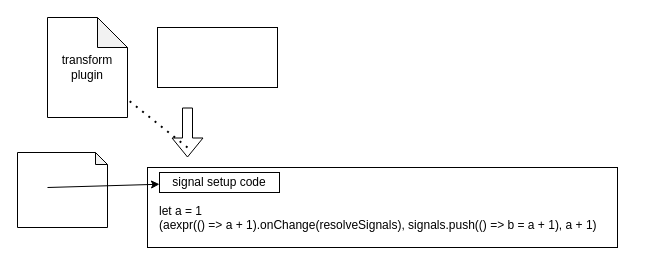
The diagram is 655 pixels wide and 265 high, and some of its shapes have lost their labels. The shapes that lost their labels are listed below. From the top down, each one's centre as x and y in pixels, then its label:
the point at 217,57: let a = 1 signal: let b = a + 1
the point at 62,190: signal setup code template
